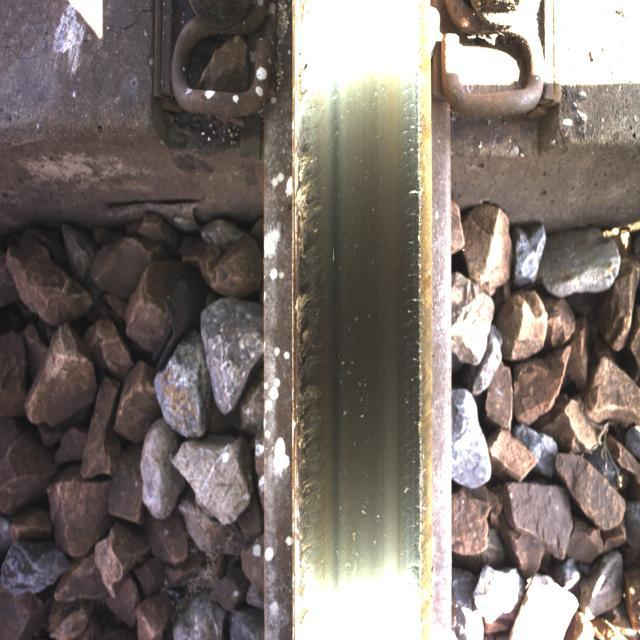scar: (288, 51, 358, 590)
